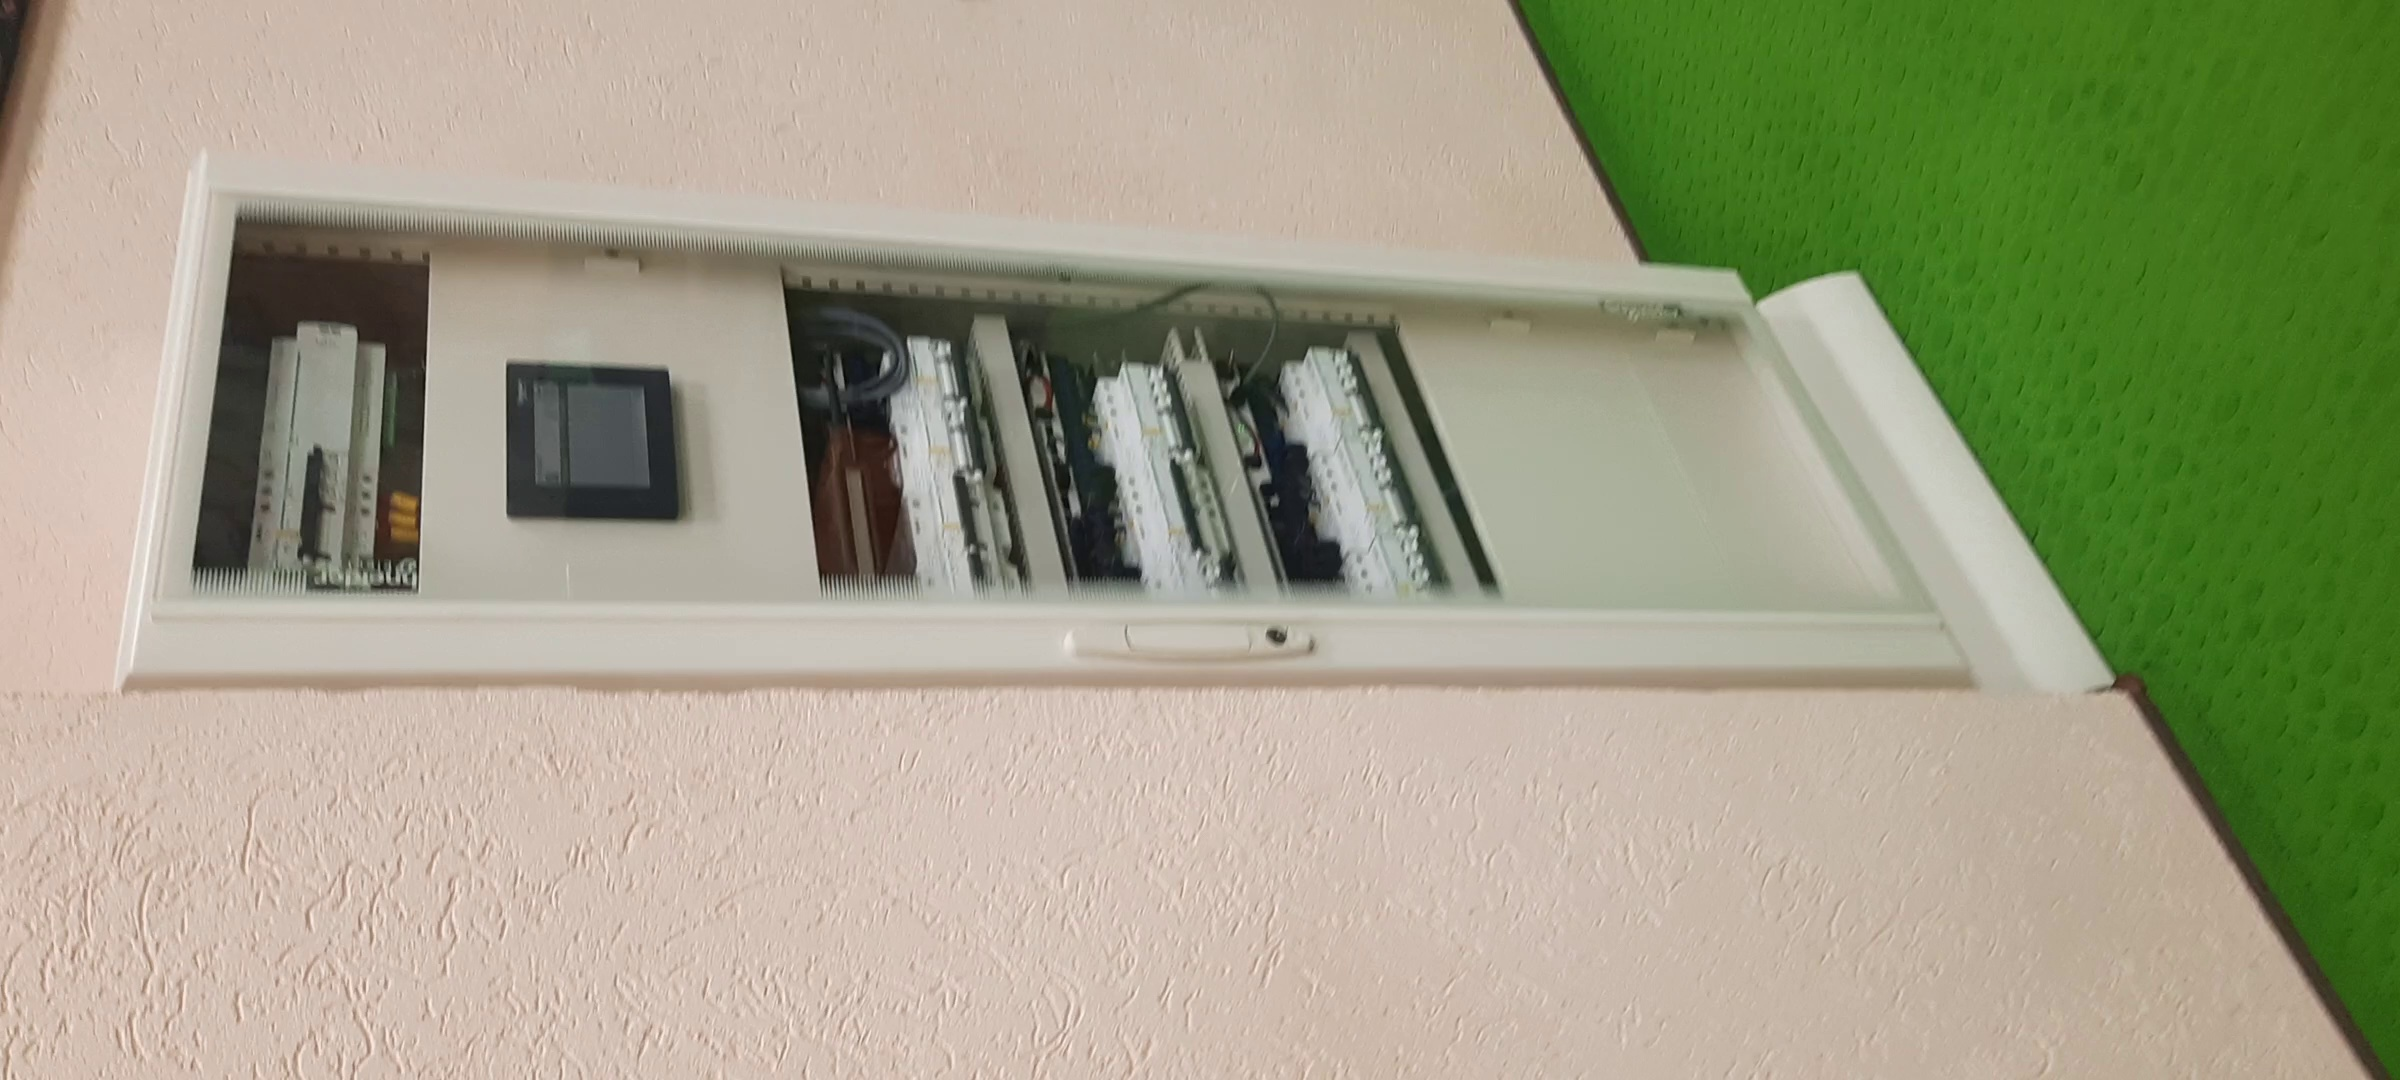smart_stand: (99, 174, 2105, 695)
